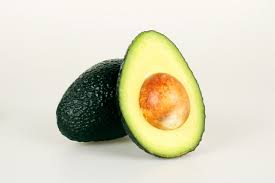avocado: (118, 30, 206, 158)
